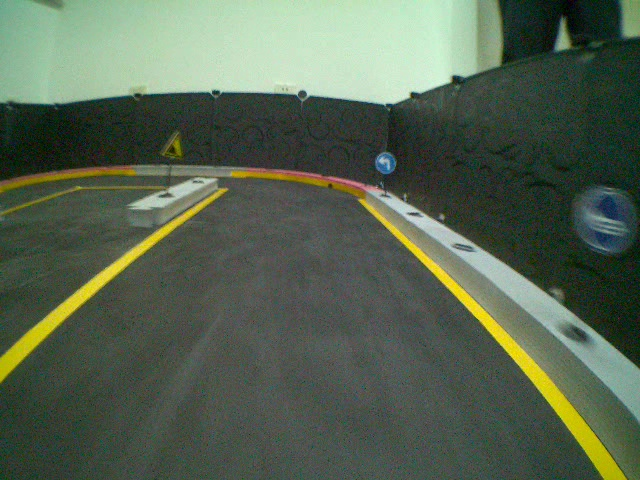fast: (158, 130, 185, 159)
horn: (570, 185, 637, 255)
turn: (374, 151, 397, 176)
